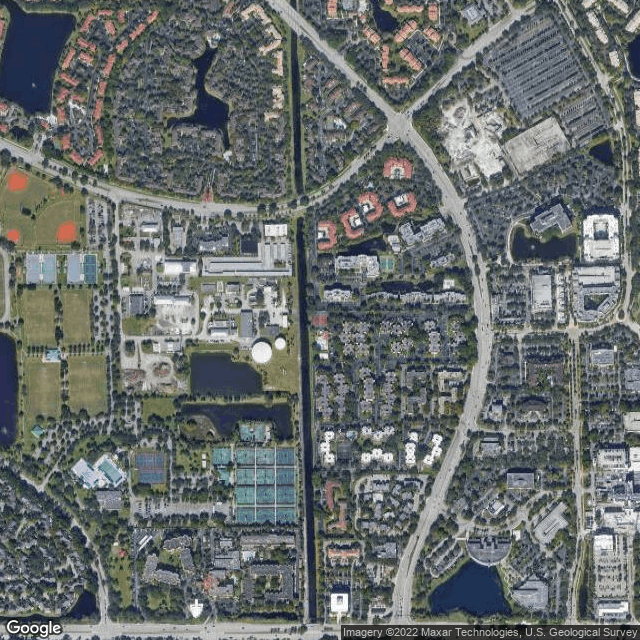Court: (276, 510, 287, 525), (265, 488, 275, 504), (286, 488, 296, 504), (256, 508, 266, 524), (265, 509, 275, 525), (286, 509, 296, 525), (235, 488, 245, 503), (246, 488, 255, 504), (277, 488, 286, 504), (236, 470, 246, 484), (246, 450, 255, 465), (257, 450, 266, 465), (266, 450, 275, 465), (237, 509, 246, 524), (214, 449, 222, 465), (222, 449, 230, 465), (277, 450, 286, 464), (154, 453, 163, 467), (238, 450, 246, 465), (286, 450, 294, 465), (257, 488, 265, 503), (247, 509, 255, 524), (277, 470, 286, 483), (256, 470, 265, 483), (246, 470, 254, 484), (137, 454, 145, 467), (266, 470, 274, 482), (287, 471, 294, 483), (146, 453, 152, 467)
